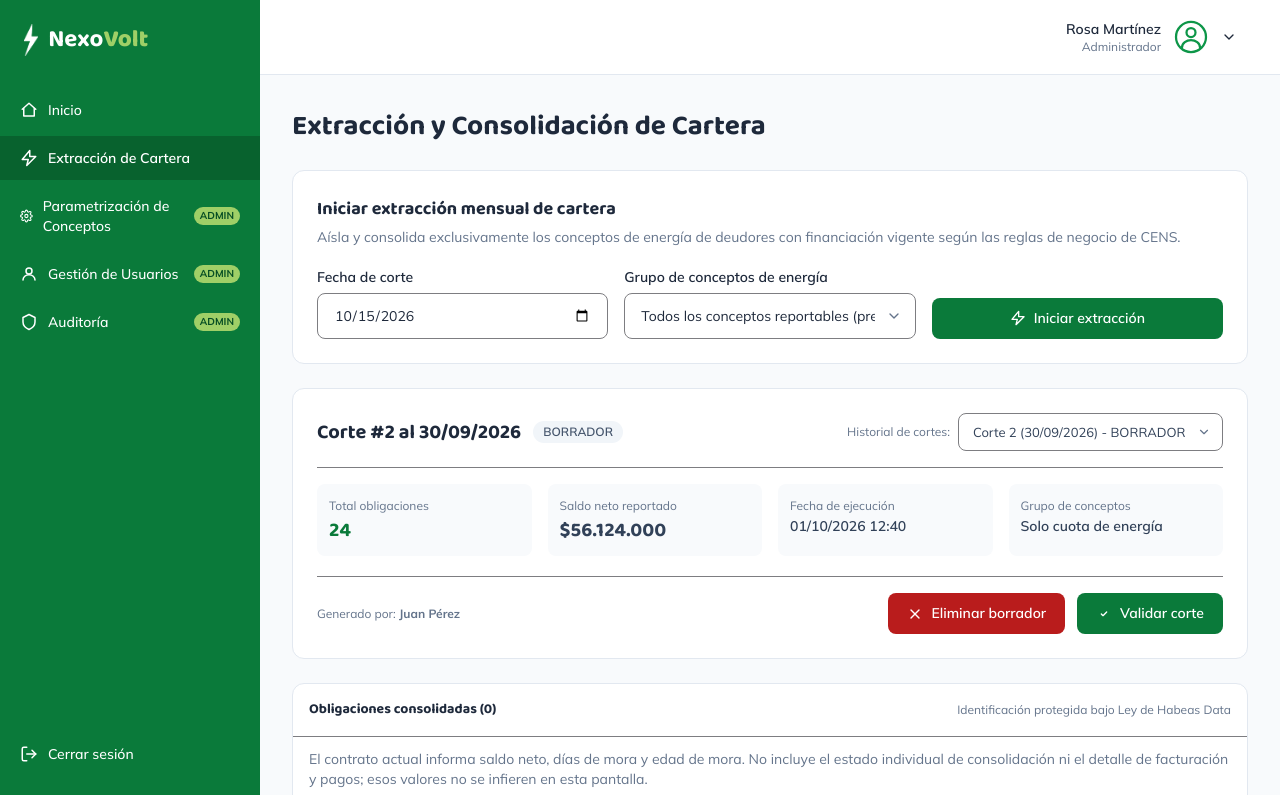
Test: formularios con useFormulario (RF31): foco en el primer campo inválido › iniciar extracción sin fecha de corte
The width and height of the screenshot is (1280, 795).
expect the heading "Corte #2 al 30/09/2026" is shown: met, box top-left (317, 418), bottom-right (521, 446)
Clear the date field labelled "Fecha de corte" at (463, 316), box top-left (317, 293), bottom-right (608, 339)
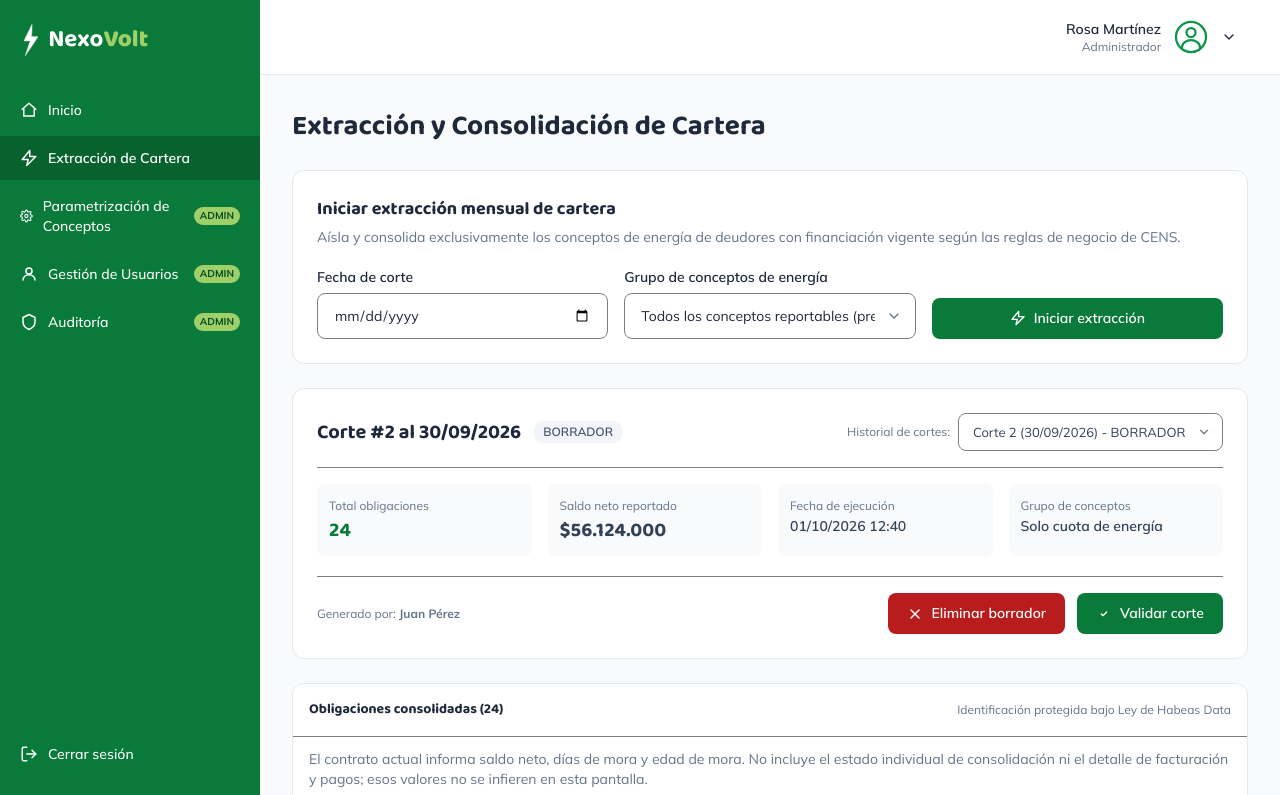
Click the button "Iniciar extracción" at (1077, 318), box top-left (932, 298), bottom-right (1223, 339)
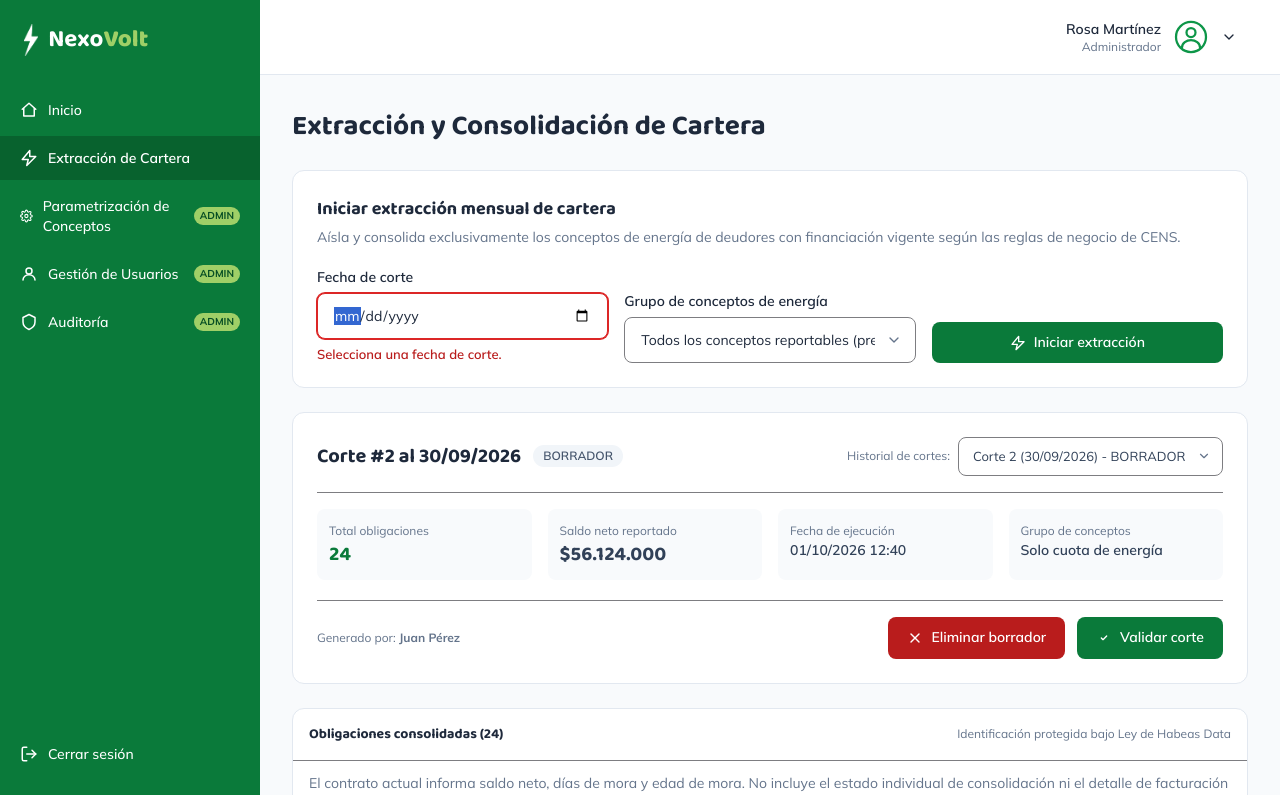
expect the text "Selecciona una fecha de corte." is shown: met, box top-left (317, 346), bottom-right (502, 362)
